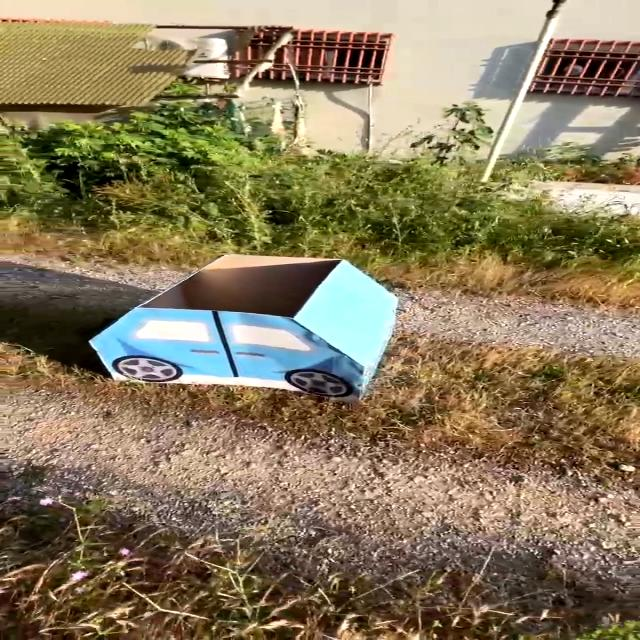blue_car: (20, 218, 480, 428)
